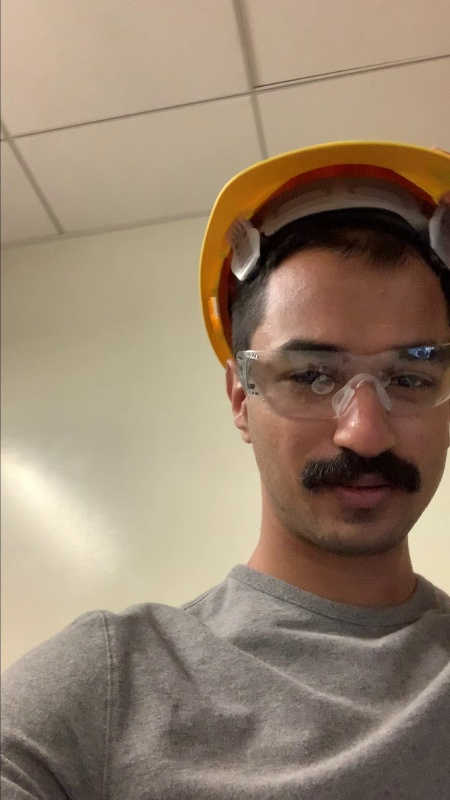glasses: (244, 333, 450, 421)
helmet: (188, 131, 450, 290)
